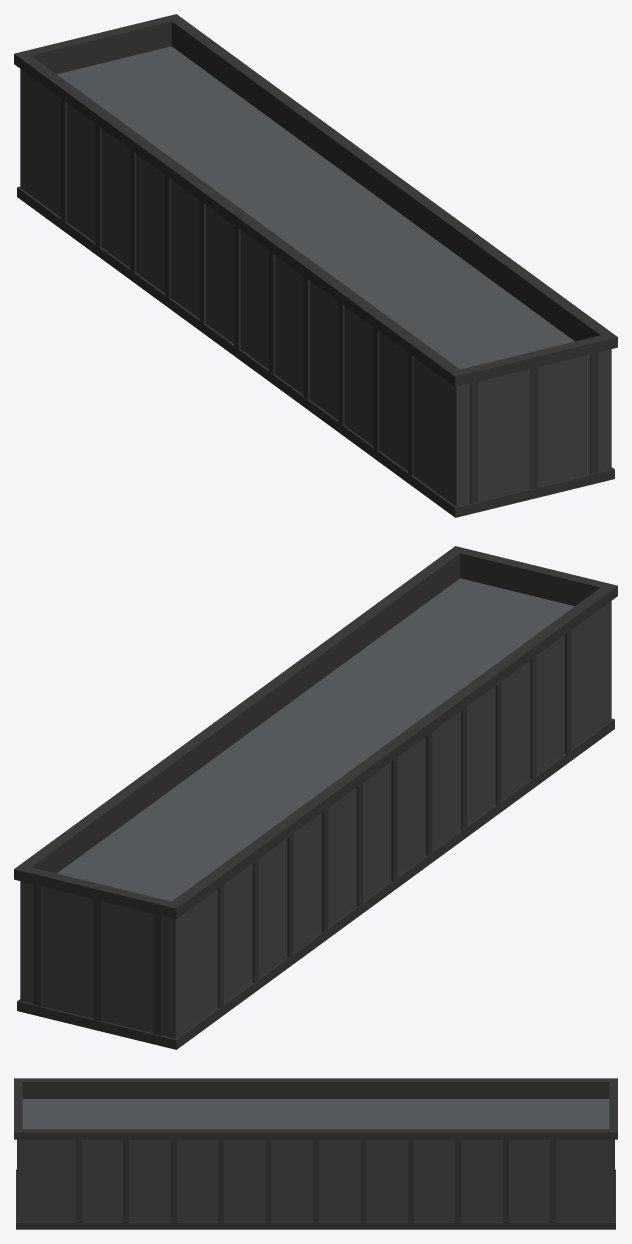
File: SM_Vehicles_TrainPart_03.fbx
The picture shows the model from 3 angles, top to bottom: view 1: azimuth 30°, elevation 25°; view 2: azimuth 150°, elevation 25°; view 3: azimuth 270°, elevation 25°; orthographic projection. The views are drawn at different scales.
Parts seen in each view (by area): view 1: SM_Vehicles_TrainPart_03; view 2: SM_Vehicles_TrainPart_03; view 3: SM_Vehicles_TrainPart_03.
Part boxes in pixels (<box>): SM_Vehicles_TrainPart_03: <box>14,14,617,517</box>; SM_Vehicles_TrainPart_03: <box>14,546,617,1049</box>; SM_Vehicles_TrainPart_03: <box>14,1078,617,1229</box>.
Size of the model in its own units: 3.62 by 3.04 by 17.05.
